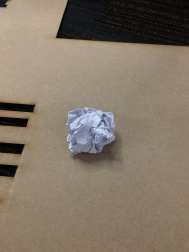paper_white: (45, 95, 133, 166)
